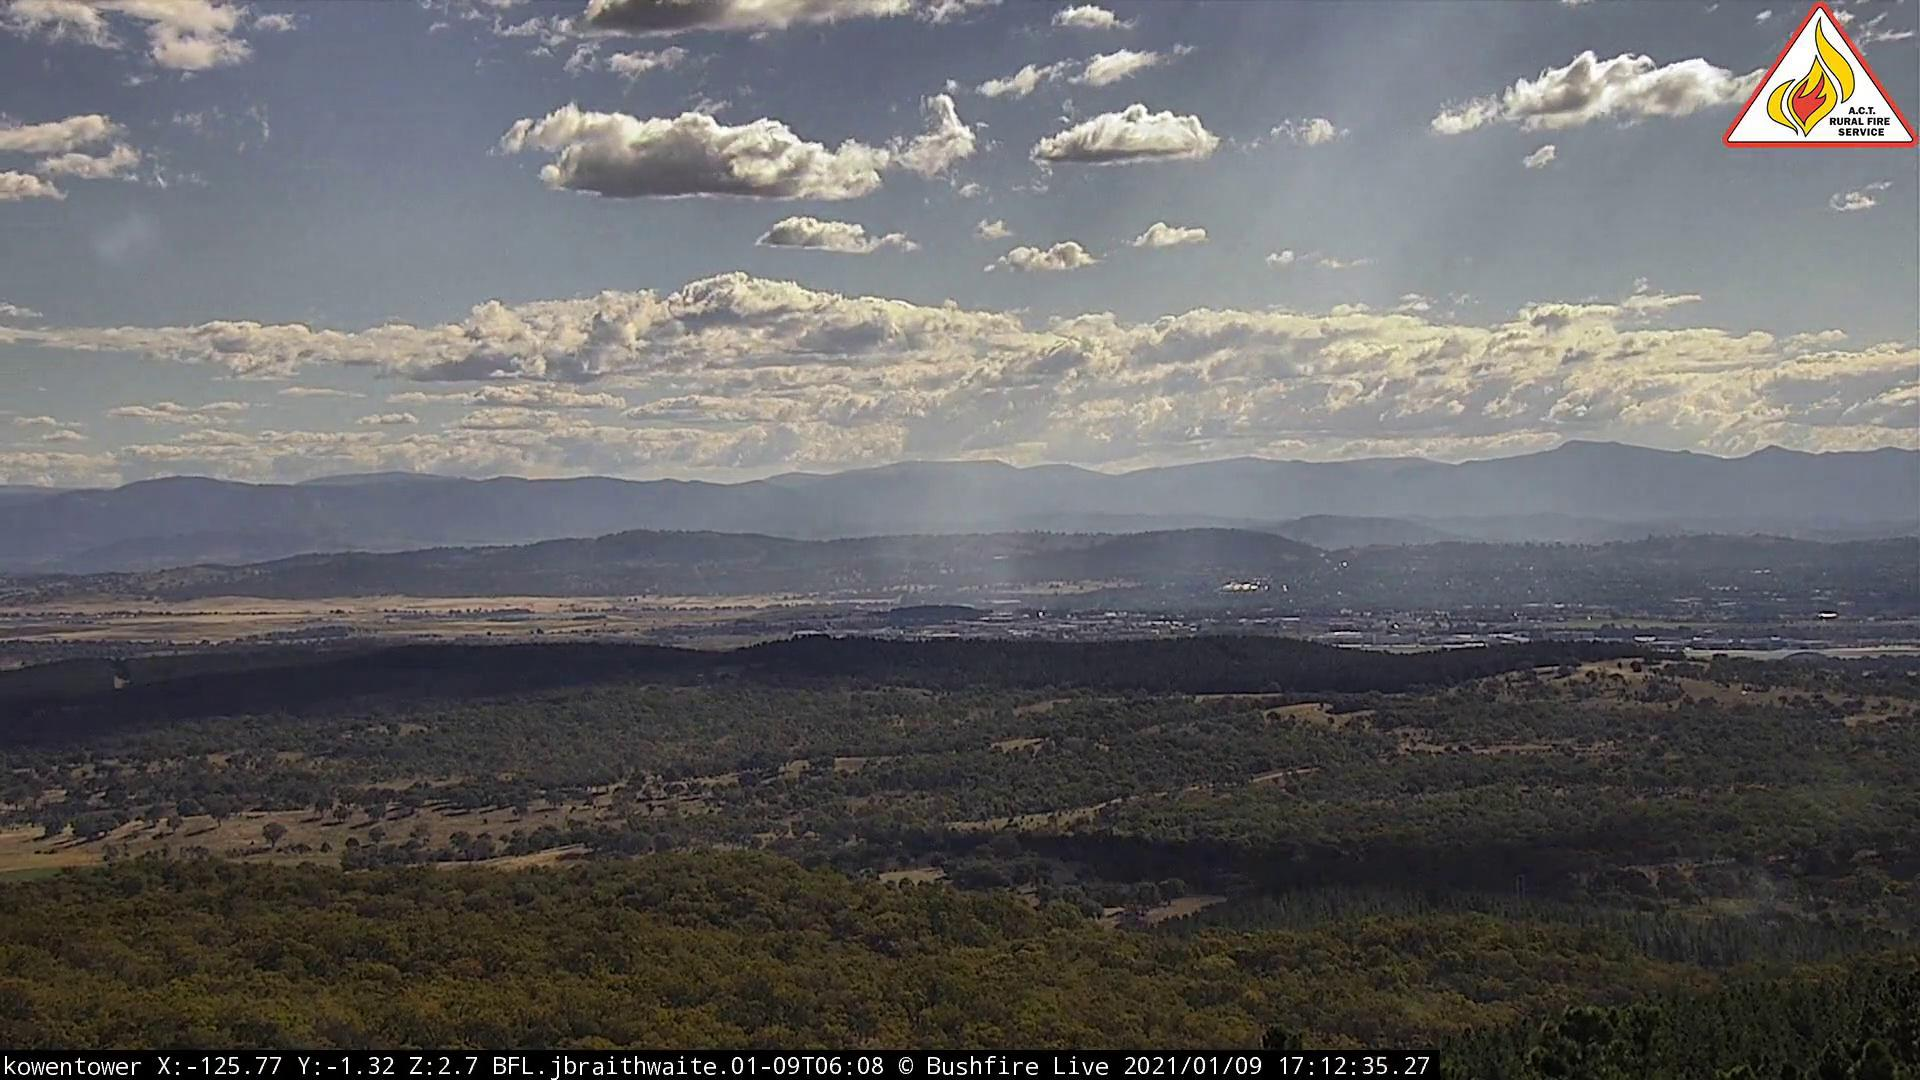Smoke: (831, 522, 1033, 607)
